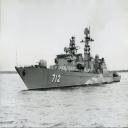Fragata: (16, 26, 123, 93)
